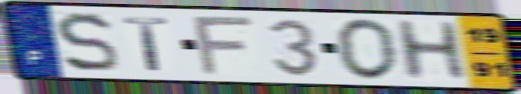3: (262, 17, 322, 79)
F: (190, 15, 257, 77)
H: (391, 18, 472, 83)
O: (332, 17, 401, 83)
S: (53, 10, 122, 75)
T: (119, 15, 173, 72)
